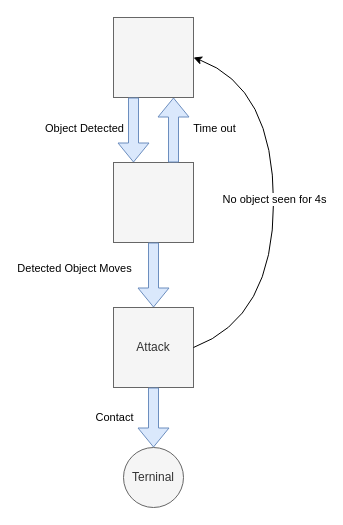
Image size: 343x525. Some labels were removed from this diagram. The shapes that lost their labels are listed below. From the top down, each one's centre as x and y in pixels, then its label:
At pixel 153 57: "Patrol".
At pixel 153 202: "Suspicious".
